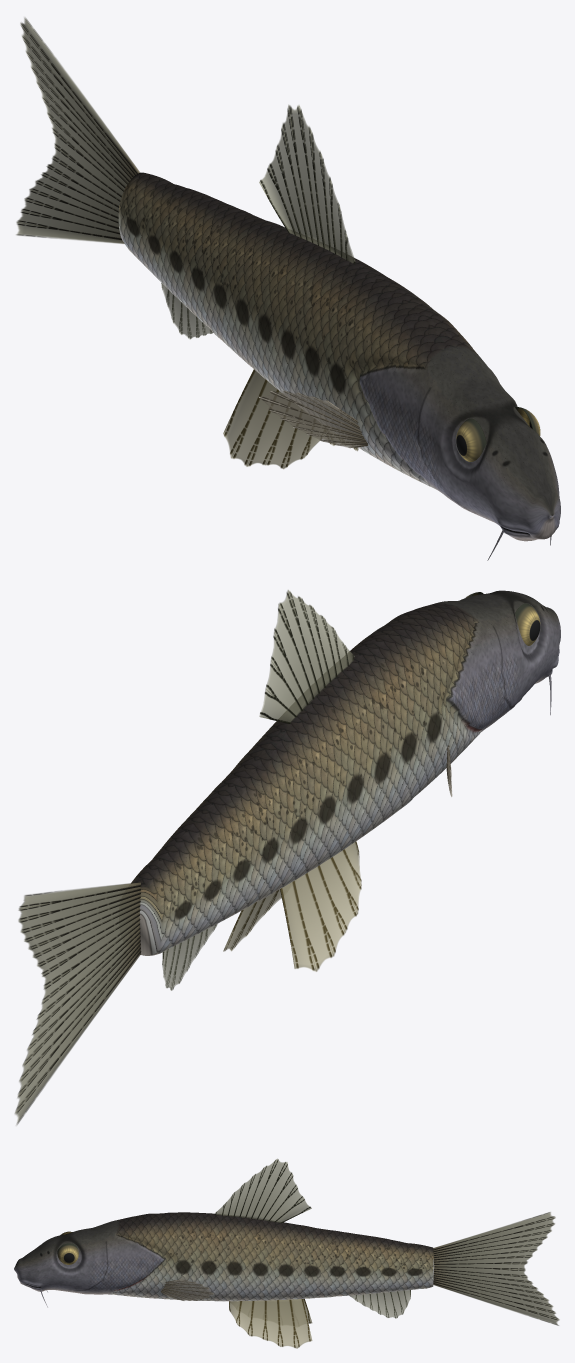
Rendered from kielb.glb.
3 views of the same model, one above another, from view 1: azimuth 30°, elevation 25°; view 2: azimuth 150°, elevation 25°; view 3: azimuth 270°, elevation 25° (orthographic). The views are drawn at different scales.
Parts seen in each view (by area): view 1: Body, FinCaudal, FinDorsal1, FinPelvic, FinPectoral, FinAnal, EyeLeft; view 2: Body, FinCaudal, FinPelvic, FinDorsal1, FinAnal, EyeLeft; view 3: Body, FinCaudal, FinDorsal1, FinPelvic, FinAnal, FinPectoral, EyeRight.
Boxes of the visible parts, <box> form: Body: <box>118,172,560,541</box>; FinCaudal: <box>16,17,139,243</box>; FinDorsal1: <box>259,105,355,263</box>; FinPelvic: <box>223,369,358,469</box>; FinPectoral: <box>259,390,367,448</box>; FinAnal: <box>161,283,213,339</box>; EyeLeft: <box>456,418,486,461</box>; Body: <box>131,590,560,955</box>; FinCaudal: <box>14,882,141,1125</box>; FinPelvic: <box>223,841,361,971</box>; FinDorsal1: <box>259,590,354,723</box>; FinAnal: <box>162,924,217,990</box>; EyeLeft: <box>515,603,540,645</box>; Body: <box>14,1212,434,1301</box>; FinCaudal: <box>433,1212,559,1325</box>; FinDorsal1: <box>215,1158,311,1222</box>; FinPelvic: <box>229,1299,312,1348</box>; FinAnal: <box>349,1290,410,1318</box>; FinPectoral: <box>160,1279,213,1300</box>; EyeRight: <box>57,1243,78,1264</box>.
Bounding box in the file's own units: 0.2078 × 0.3667 × 1.
Materials: 9 (8 with a texture image).
